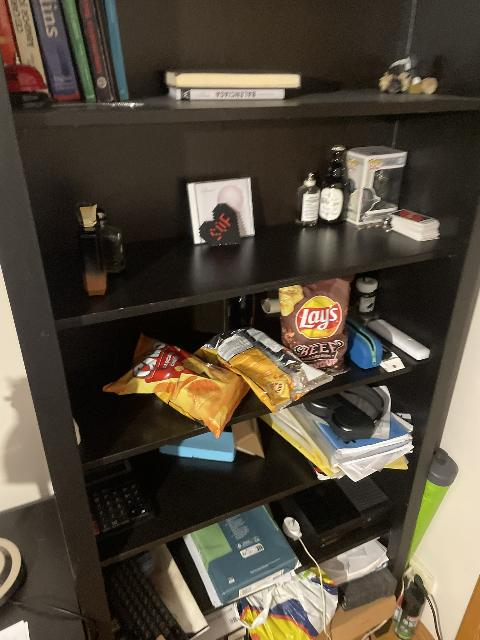Chio Cascaval 125g: (103, 335, 251, 438)
Chio Hula Hoops Cheese 70g: (207, 325, 330, 405)
Lays Beef Grilled Ribs 125g: (278, 285, 347, 359)
